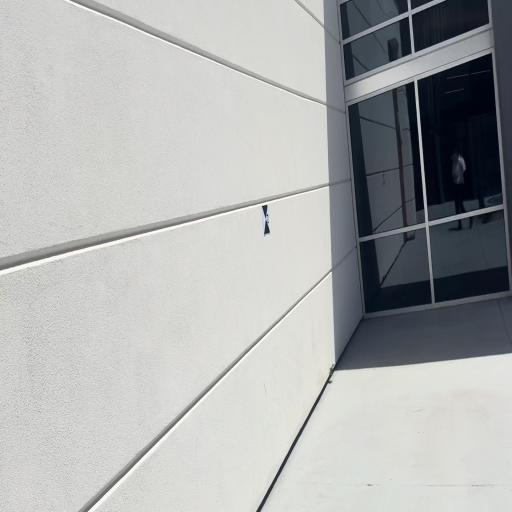target7: (262, 204, 271, 235)
